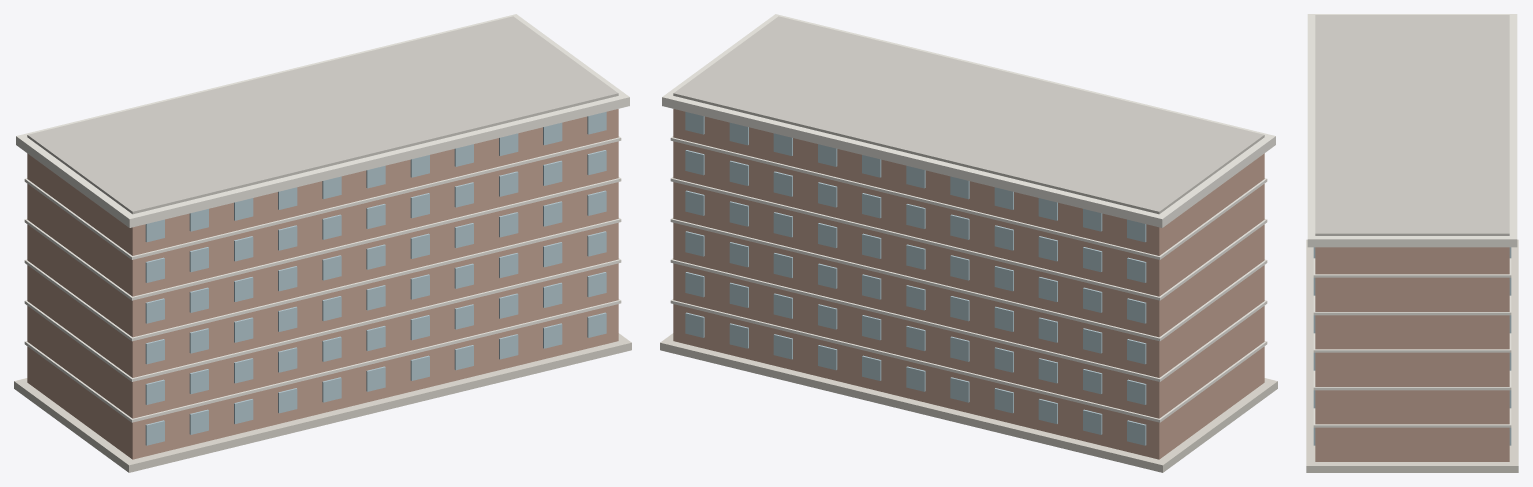
File: 环湖公寓.glb
3 renders of one model, left to right at view 1: azimuth 30°, elevation 25°; view 2: azimuth 150°, elevation 25°; view 3: azimuth 270°, elevation 25°, orthographic. The views are drawn at different scales.
Parts seen in each view (by area): view 1: 环湖公寓_brick, 环湖公寓_roofDeck, 环湖公寓_glassLight, 环湖公寓_trim, 环湖公寓_stone; view 2: 环湖公寓_brick, 环湖公寓_roofDeck, 环湖公寓_glassLight, 环湖公寓_trim, 环湖公寓_stone; view 3: 环湖公寓_roofDeck, 环湖公寓_brick, 环湖公寓_trim, 环湖公寓_stone, 环湖公寓_glassLight.
Part boxes in pixels (left/top/right/bottom): 环湖公寓_brick: left=27, top=109, right=618, bottom=459; 环湖公寓_roofDeck: left=27, top=16, right=618, bottom=214; 环湖公寓_glassLight: left=145, top=112, right=606, bottom=445; 环湖公寓_trim: left=16, top=14, right=629, bottom=422; 环湖公寓_stone: left=14, top=333, right=631, bottom=472; 环湖公寓_brick: left=673, top=109, right=1264, bottom=459; 环湖公寓_roofDeck: left=673, top=16, right=1264, bottom=214; 环湖公寓_glassLight: left=685, top=112, right=1146, bottom=445; 环湖公寓_trim: left=662, top=14, right=1275, bottom=422; 环湖公寓_stone: left=660, top=333, right=1277, bottom=472; 环湖公寓_roofDeck: left=1315, top=15, right=1509, bottom=235; 环湖公寓_brick: left=1315, top=247, right=1509, bottom=461; 环湖公寓_trim: left=1307, top=14, right=1517, bottom=427; 环湖公寓_stone: left=1306, top=239, right=1518, bottom=472; 环湖公寓_glassLight: left=1313, top=247, right=1511, bottom=445.
Size of the model in its own units: 41.4 by 20.1 by 16.4.
